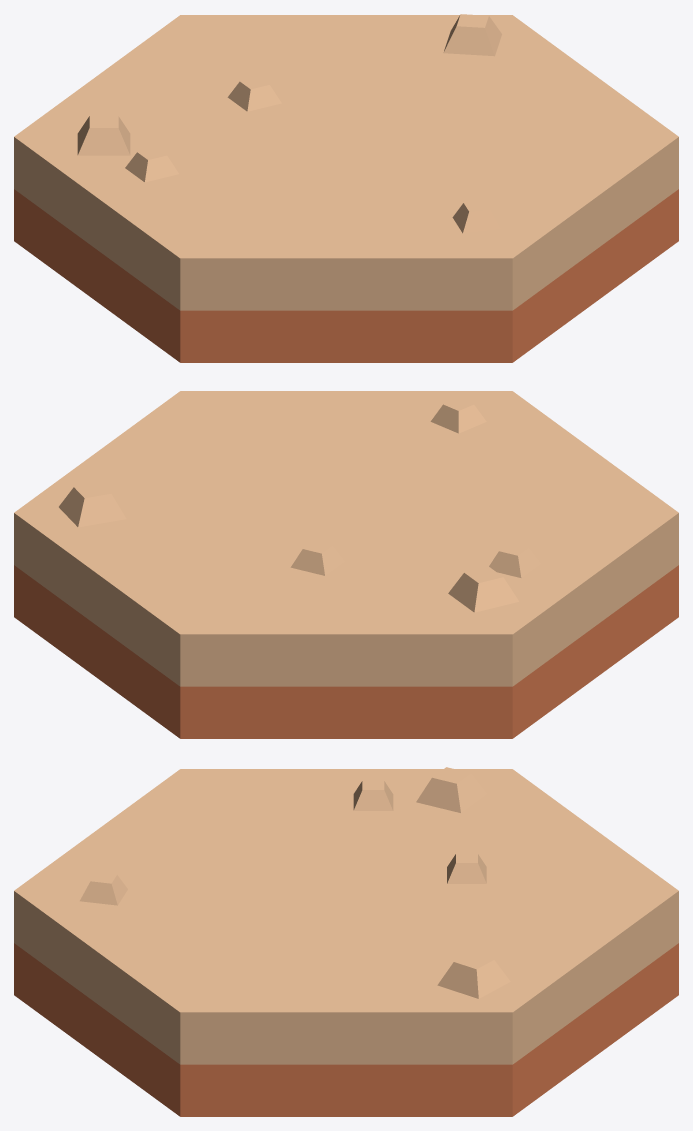
File: sand_rocks.dae
The picture shows the model from 3 angles, top to bottom: view 1: azimuth 30°, elevation 25°; view 2: azimuth 150°, elevation 25°; view 3: azimuth 270°, elevation 25°; orthographic projection.
Visible parts, largest first — view 1: sand_rocks, rock (×5); view 2: sand_rocks, rock (×5); view 3: sand_rocks, rock (×5).
Part boxes in pixels (<box>): sand_rocks: <box>14,15,678,362</box>; rock (×5): <box>77,14,501,233</box>; sand_rocks: <box>14,391,678,738</box>; rock (×5): <box>59,398,540,612</box>; sand_rocks: <box>14,769,678,1116</box>; rock (×5): <box>80,767,510,998</box>.
Bounding box in the file's own units: 1 × 0.2435 × 1.15.
